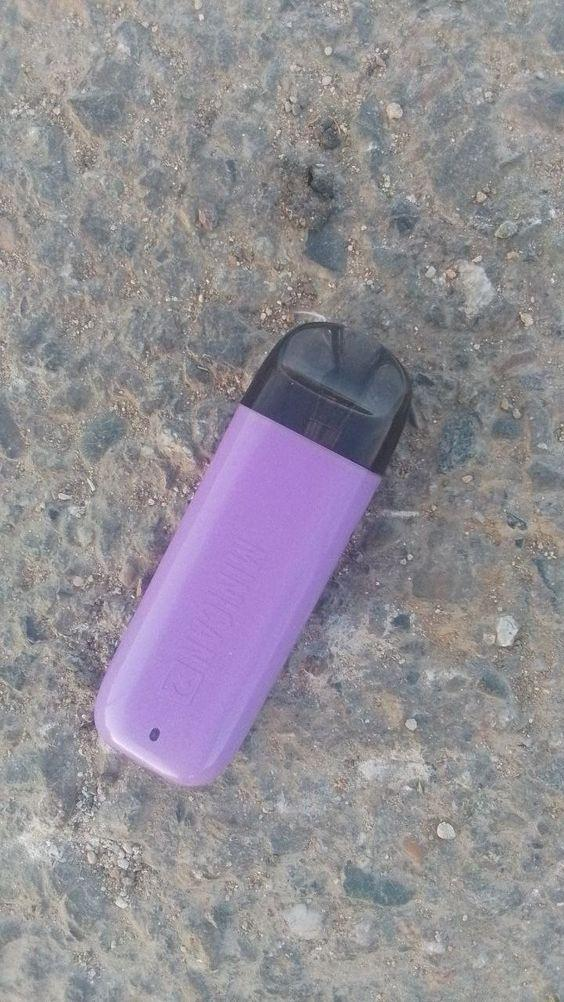Vape: (96, 321, 410, 785)
